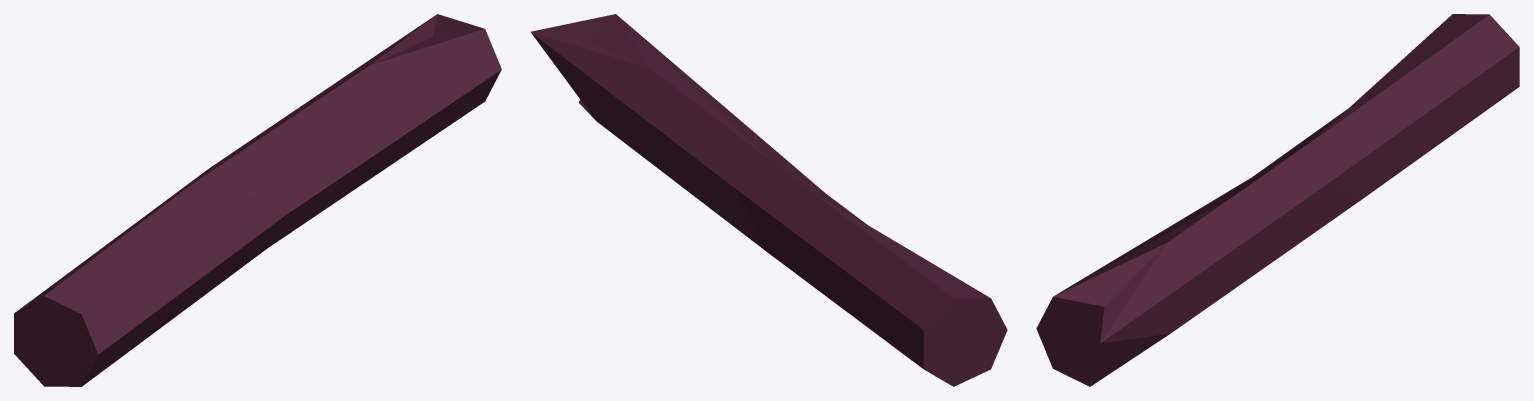
File: log_004_grp.fbx
3 renders of one model, left to right at view 1: azimuth 90°, elevation 25°; view 2: azimuth 150°, elevation 25°; view 3: azimuth 270°, elevation 25°, orthographic. The views are drawn at different scales.
Parts seen in each view (by area): view 1: log_004_grp; view 2: log_004_grp; view 3: log_004_grp.
Part boxes in pixels (x1,y1,x2,y2): log_004_grp: (14, 14, 501, 386); log_004_grp: (530, 14, 1007, 386); log_004_grp: (1036, 14, 1519, 386).
Bounding box in the file's own units: 294 × 40 × 189.
